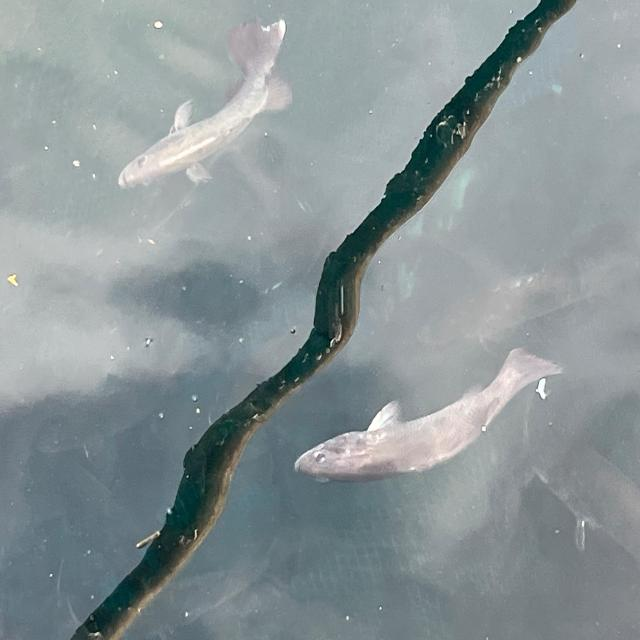ikan: (278, 346, 586, 505), (95, 51, 299, 203)
